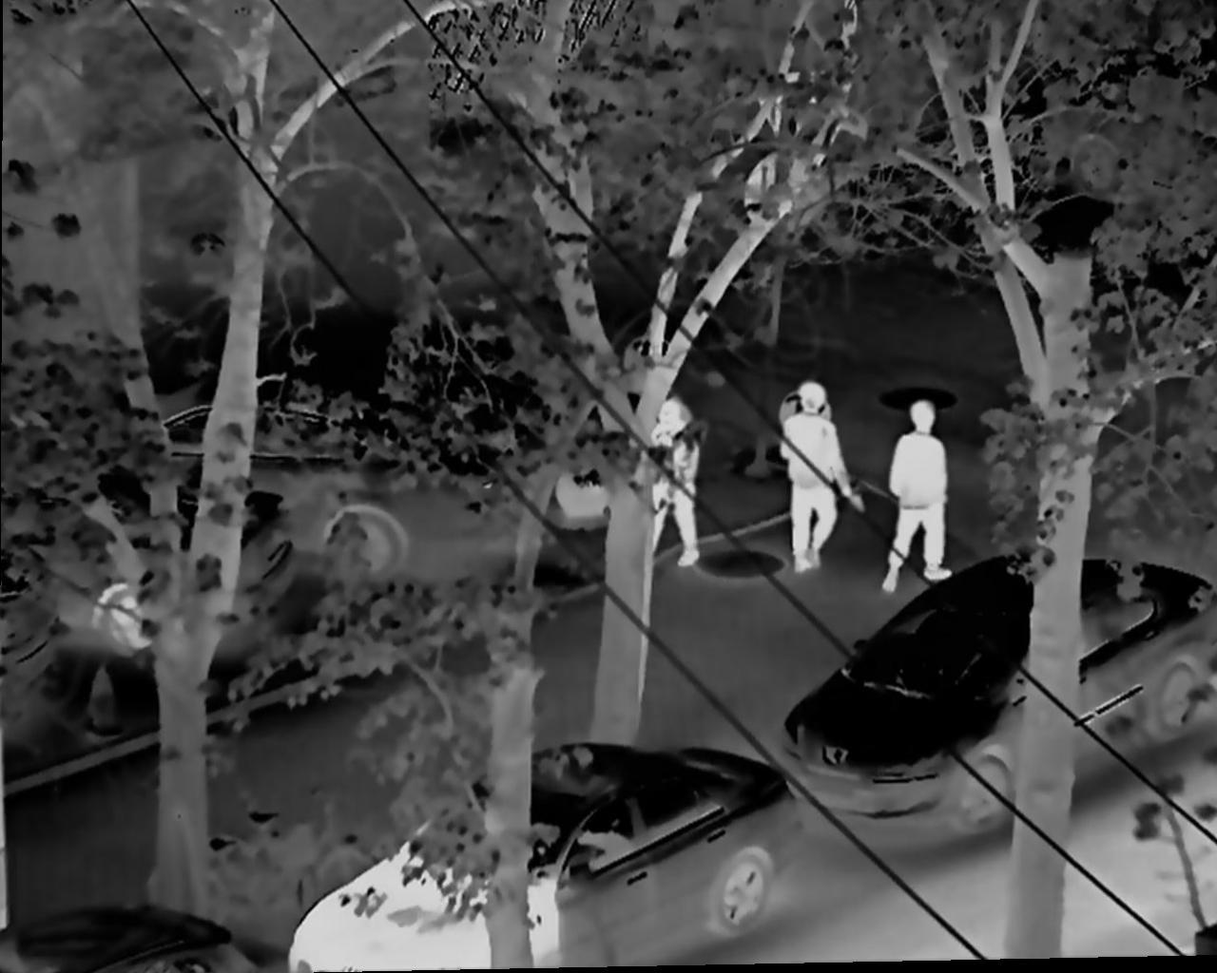person: (780, 385, 867, 586), (881, 388, 953, 593), (639, 393, 705, 568)
